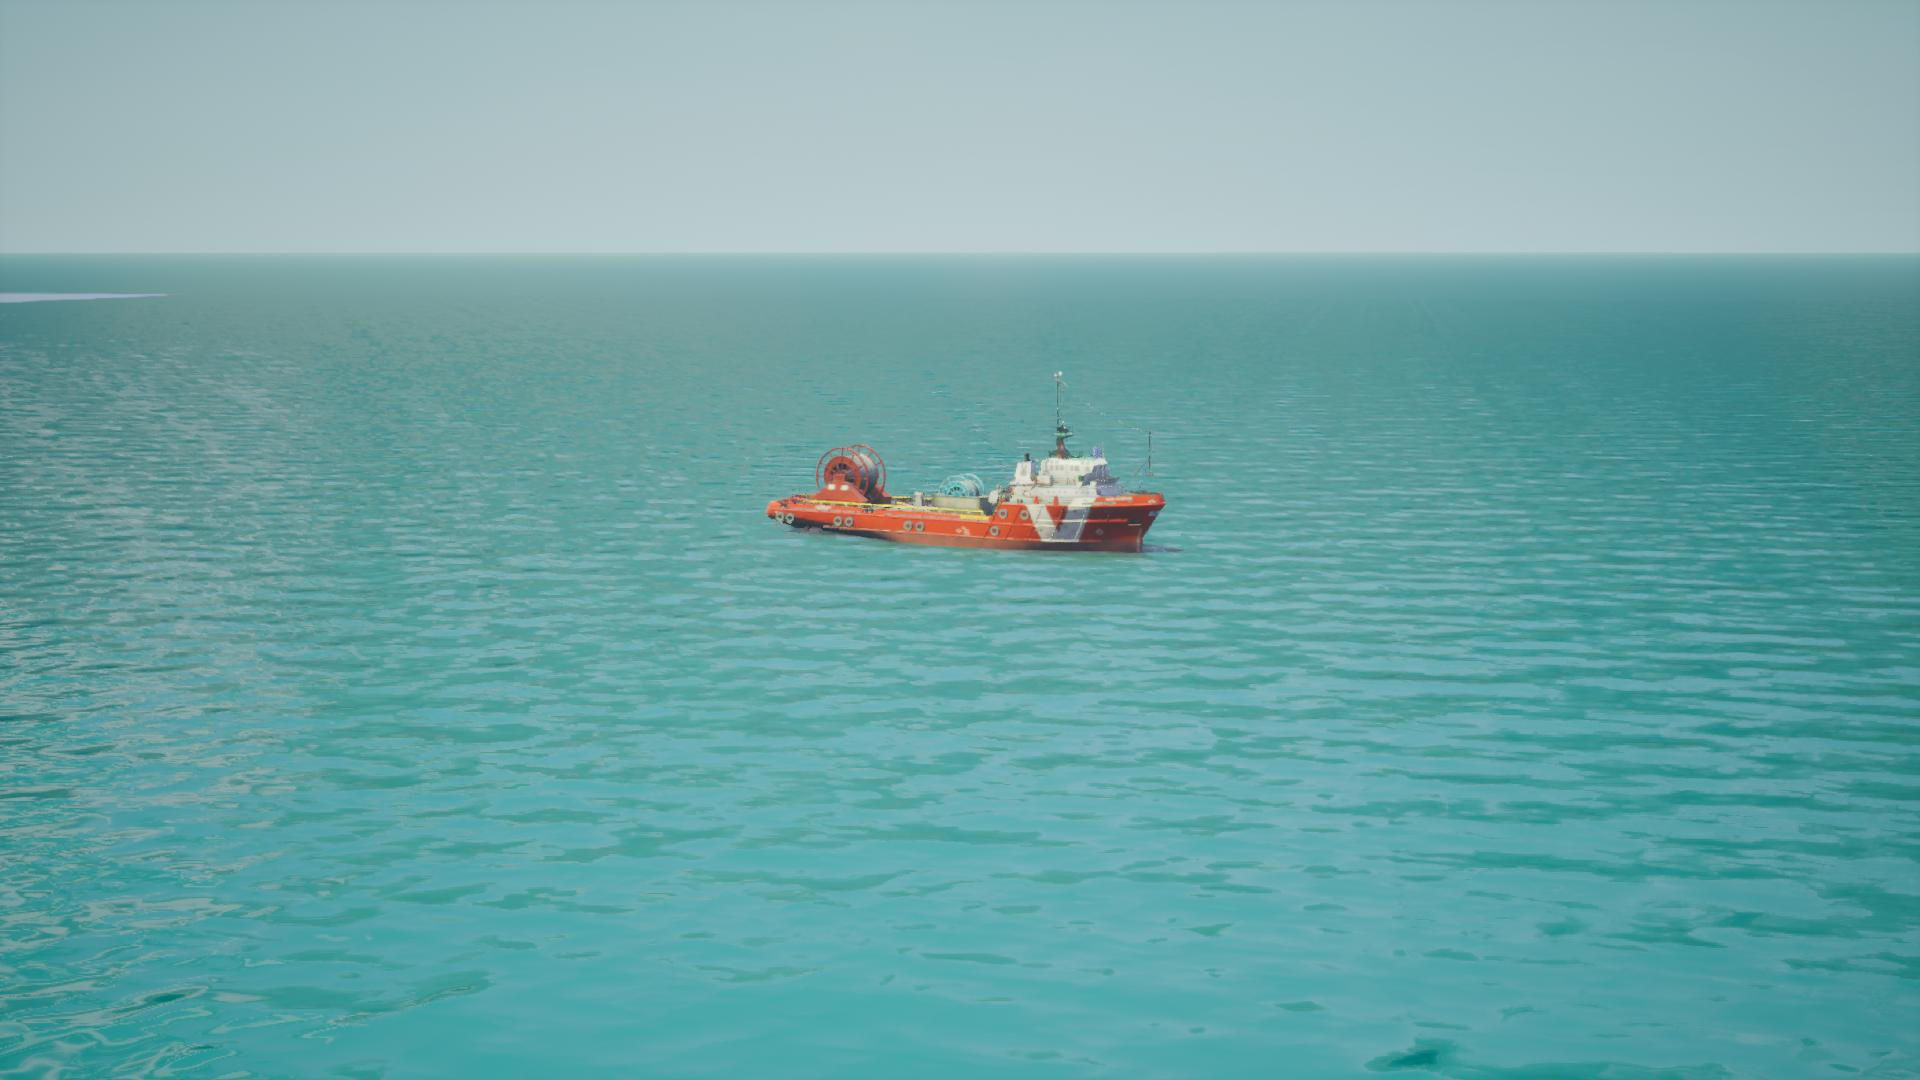Tug Boat: (767, 418, 1174, 558)
